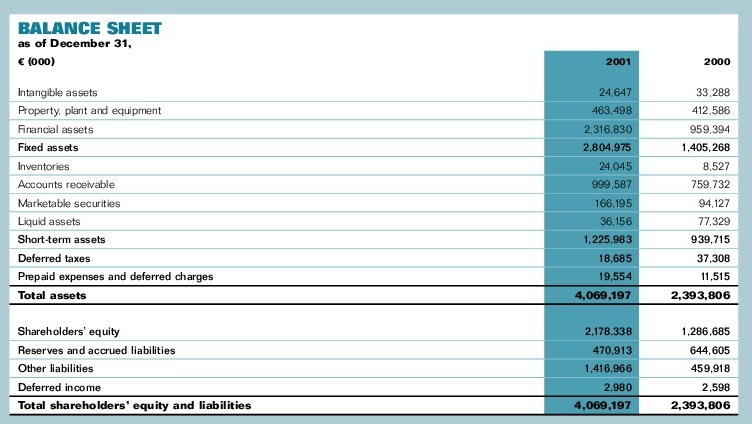table: (0, 0, 752, 424)
